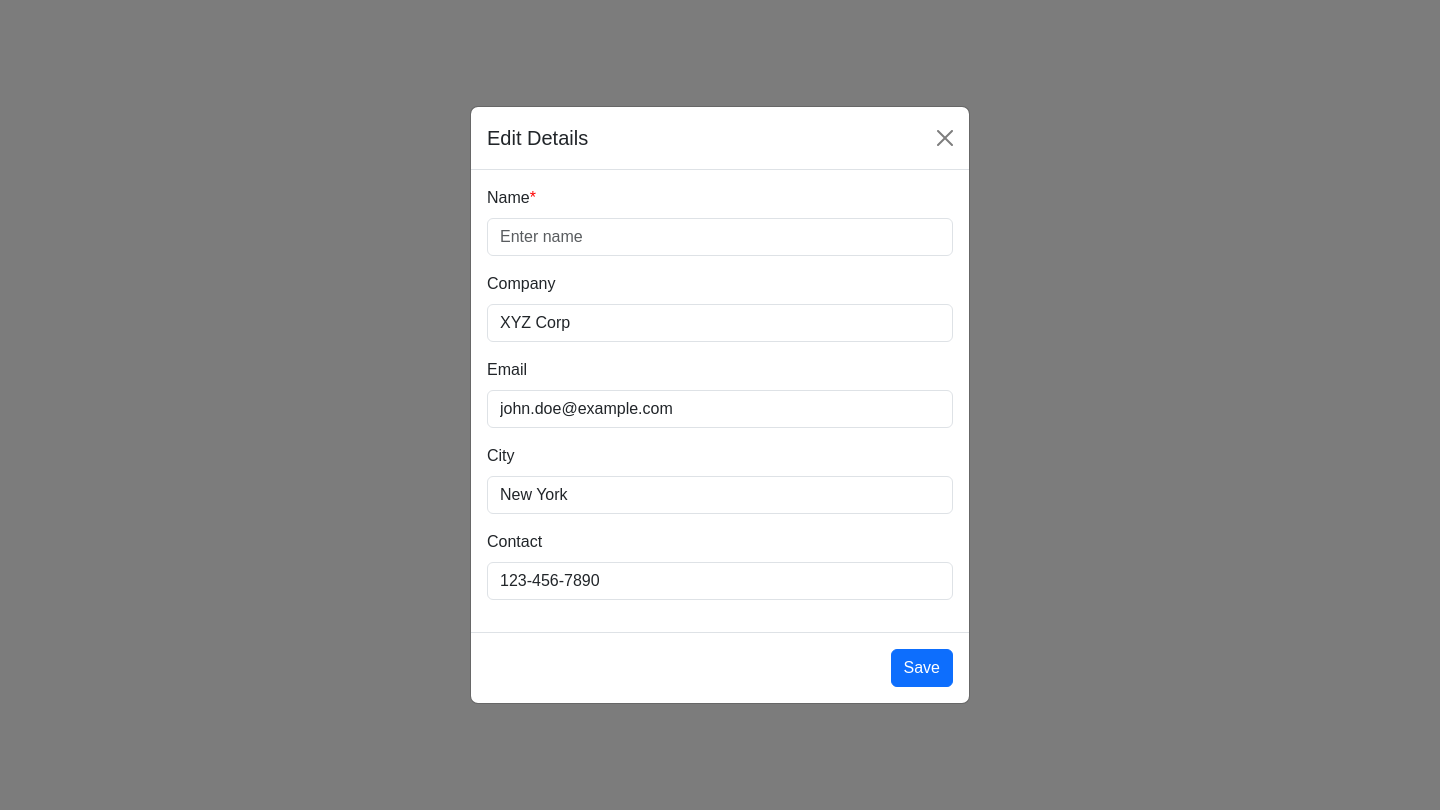
Test: CustomProfileModal › shows an error message when the name field is empty and save is clicked
The image size is (1440, 810).
Click the button "Save" at (922, 668), box [890,649,953,687]
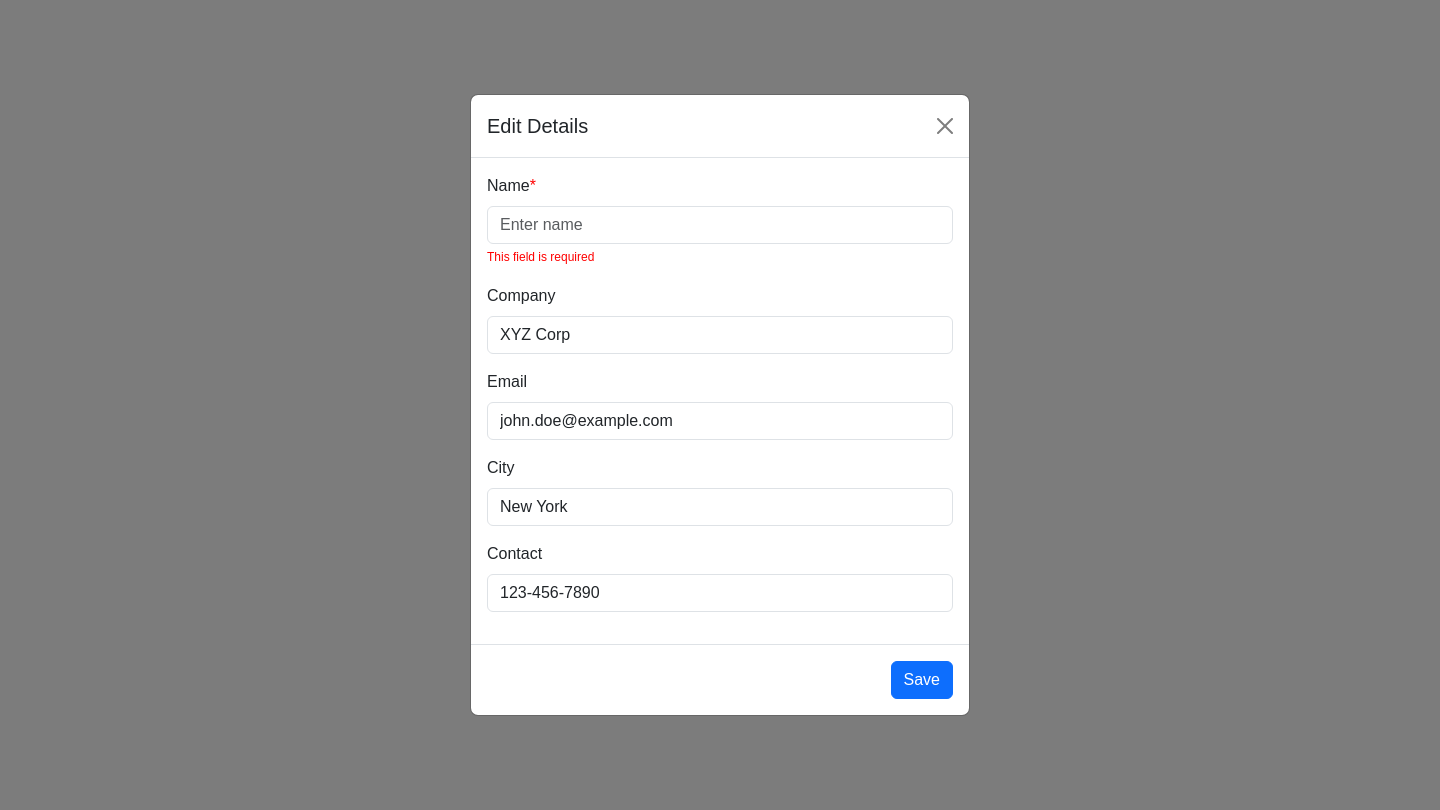
Result: the text "This field is required" is shown at [487,250,594,264]
